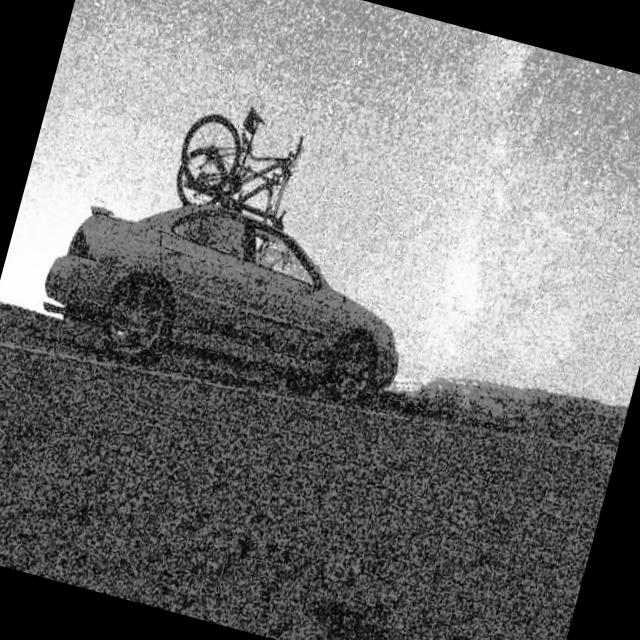Bicycle: (156, 77, 334, 241)
Car: (4, 157, 439, 488)
